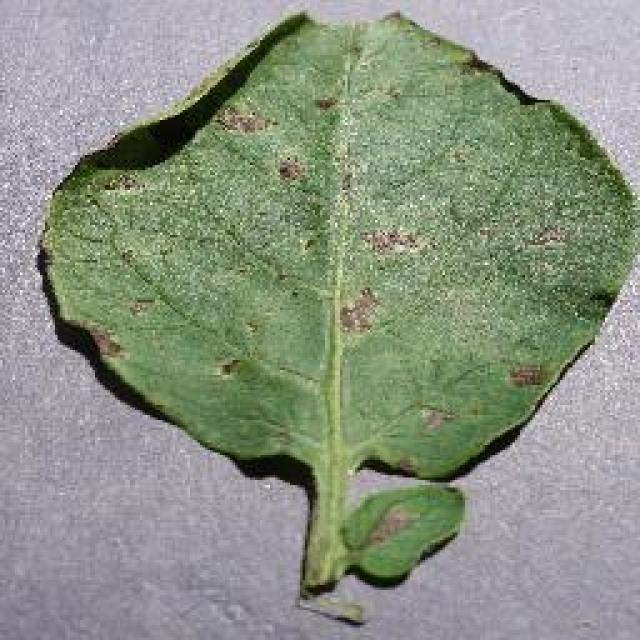early_blight: (35, 5, 637, 613)
